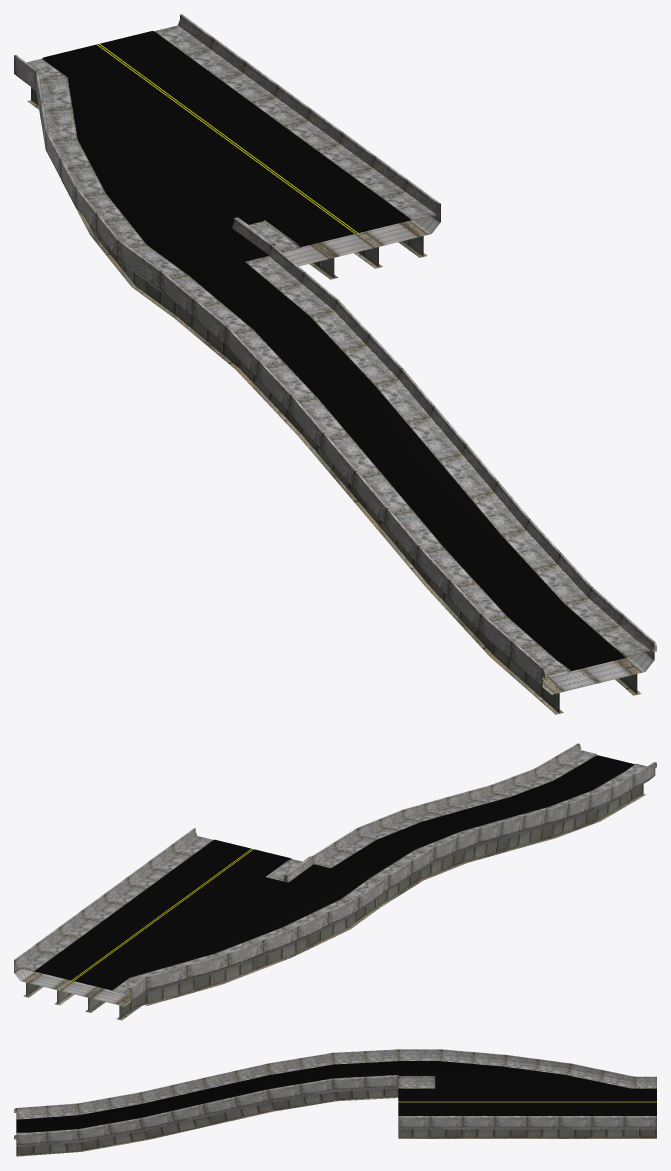
Rendered from Bridge-OffRamp.fbx.
The picture shows the model from 3 angles, top to bottom: view 1: azimuth 30°, elevation 25°; view 2: azimuth 150°, elevation 25°; view 3: azimuth 270°, elevation 25°; orthographic projection. The views are drawn at different scales.
Visible parts, largest first — view 1: Bridge-OffRamp; view 2: Bridge-OffRamp; view 3: Bridge-OffRamp.
Boxes of the visible parts, x1,y1,x2,y2 form: Bridge-OffRamp: (14,14,656,714); Bridge-OffRamp: (14,743,656,1020); Bridge-OffRamp: (14,1049,656,1156).
Bounding box in the file's own units: 3500 × 1987 × 13915.
